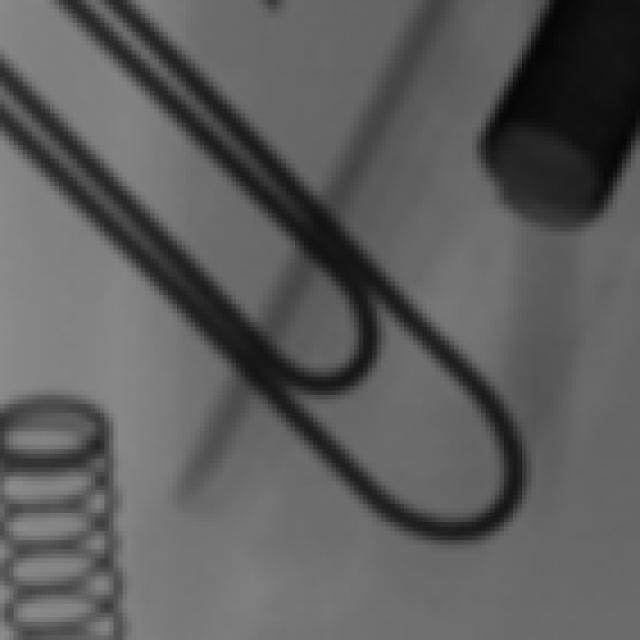GUN: (520, 1, 640, 228)
